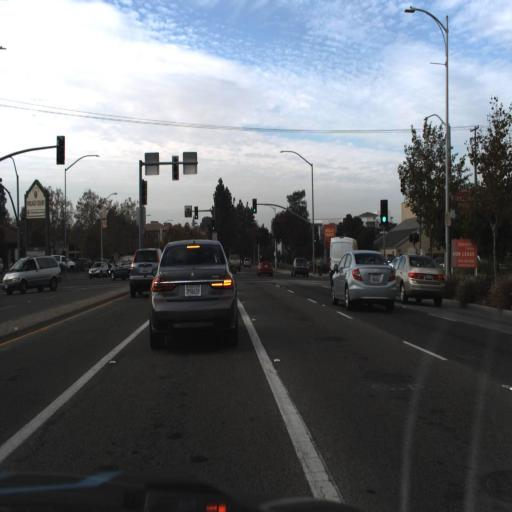car: (150, 240, 240, 340), (334, 240, 406, 316), (389, 250, 449, 312), (386, 252, 447, 306), (3, 256, 60, 292), (128, 247, 165, 297), (129, 247, 161, 292), (106, 249, 135, 280), (254, 252, 277, 277), (253, 256, 276, 280), (228, 244, 242, 271), (290, 256, 308, 276), (226, 252, 242, 274), (88, 259, 106, 275), (154, 250, 164, 274), (130, 257, 139, 270)
trafficLight: (56, 132, 66, 164), (138, 177, 148, 205), (171, 155, 179, 180)
trafficLight-Green: (378, 200, 386, 224), (250, 196, 260, 215), (209, 217, 217, 234), (193, 206, 199, 218)
truck: (328, 235, 361, 284), (329, 234, 357, 284)
